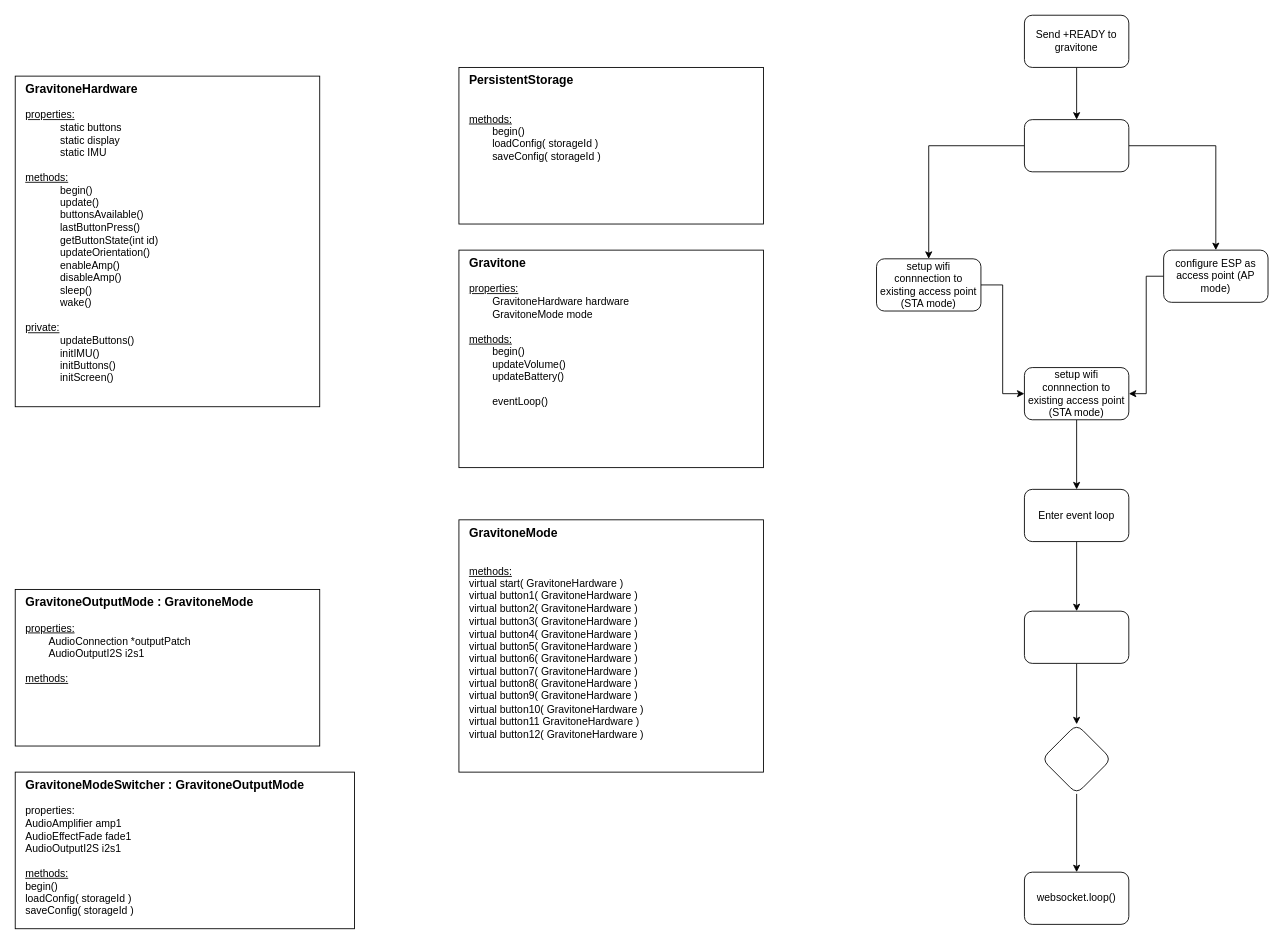
The diagram is 1283 pixels wide and 944 high, and some of its shapes have lost their labels. The centre of each missing label's shape, as x and y in pixels:
message available?: (1076,758)
read available serial data into RX buffer: (1076,636)
wait for credential configuration: (1076,145)
